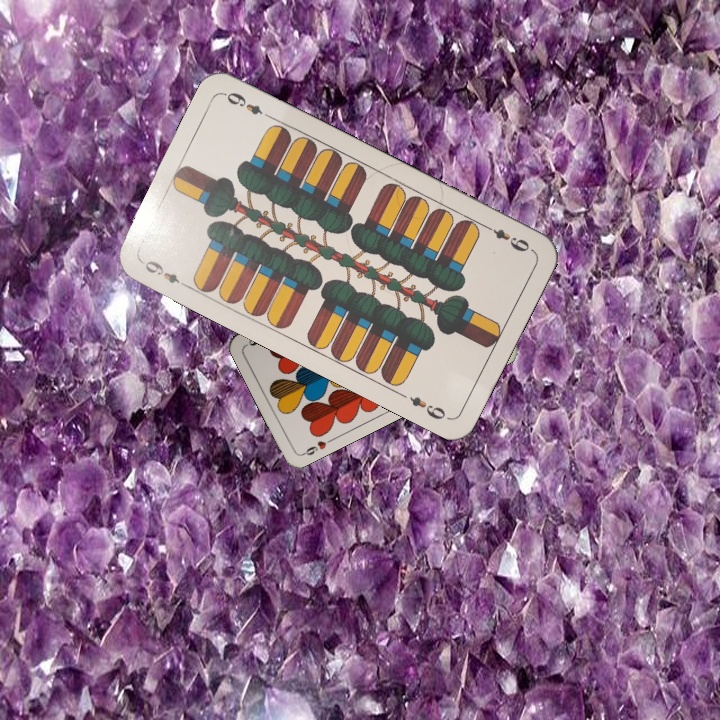E9: (480, 221, 535, 255), (140, 256, 191, 290)
H9: (298, 434, 336, 458)
